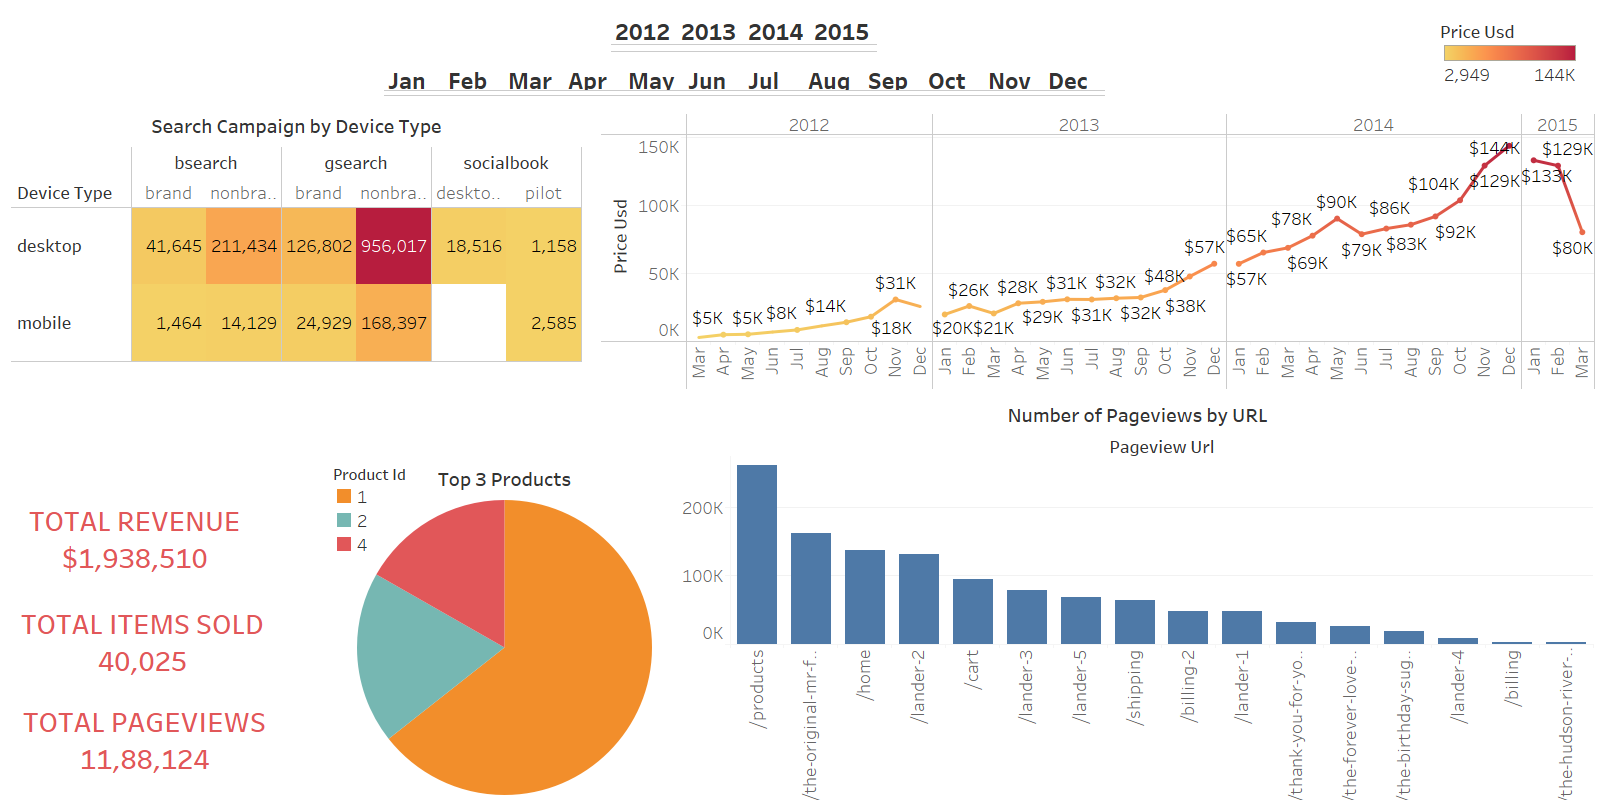

The page's visual inventory and layout, read from the dashboard file:
{"tool":"tableau","page":{"name":"Dashboard 1","canvas":[1600,800],"ordinal":0},"visuals":[{"type":"worksheet","title":"Sheet 8","mark":"Automatic","cols":["created_at"],"box":[578,13,316,60]},{"type":"worksheet","title":"Sheet 1","mark":"Automatic","box":[5,16,208,107]},{"type":"worksheet","title":"Sheet 7","mark":"Automatic","rows":["price_usd"],"cols":["created_at","created_at"],"param":"[federated.0cu7ow50d6lbz01dkou7g03paphx].[sum:price_usd:qk]","box":[1435,49,154,65]},{"type":"worksheet","title":"Sheet 9","mark":"Automatic","cols":["created_at"],"box":[392,75,725,57]},{"type":"worksheet","title":"Sheet 2","mark":"Automatic","box":[0,118,224,108]},{"type":"worksheet","title":"Sheet 7","mark":"Automatic","rows":["price_usd"],"cols":["created_at","created_at"],"box":[476,125,1118,288]},{"type":"worksheet","title":"Sheet 3","mark":"Automatic","box":[0,207,225,126]},{"type":"worksheet","title":"Sheet 4","mark":"Automatic","rows":["price_usd"],"cols":["utm_campaign","utm_source"],"box":[18,310,418,484]},{"type":"worksheet","title":"Top 3 Products","mark":"Pie","param":"[federated.0cu7ow50d6lbz01dkou7g03paphx].[none:product_id:ok]","box":[1455,444,140,97]},{"type":"worksheet","title":"Top 3 Products","mark":"Pie","box":[1100,446,418,313]},{"type":"worksheet","title":"Sheet 5","mark":"Automatic","rows":["price_usd"],"cols":["device_type"],"box":[445,451,627,326]}]}

Visuals, with their boxes in screenshot pixels (x1, y1, x2, y2), scaled from the page's 1600x800 canvas onto the 1600x800 screenshot:
"Sheet 8" worksheet: left=578, top=13, right=894, bottom=73
"Sheet 1" worksheet: left=5, top=16, right=213, bottom=123
"Sheet 7" worksheet: left=1435, top=49, right=1589, bottom=114
"Sheet 9" worksheet: left=392, top=75, right=1117, bottom=132
"Sheet 2" worksheet: left=0, top=118, right=224, bottom=226
"Sheet 7" worksheet: left=476, top=125, right=1594, bottom=413
"Sheet 3" worksheet: left=0, top=207, right=225, bottom=333
"Sheet 4" worksheet: left=18, top=310, right=436, bottom=794
"Top 3 Products" worksheet (Pie marks): left=1455, top=444, right=1595, bottom=541
"Top 3 Products" worksheet (Pie marks): left=1100, top=446, right=1518, bottom=759
"Sheet 5" worksheet: left=445, top=451, right=1072, bottom=777
